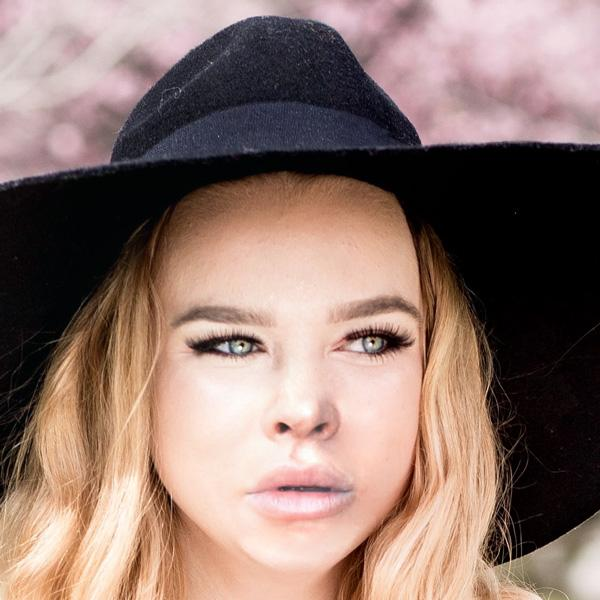Eyes: (179, 322, 278, 370), (324, 319, 414, 369)
